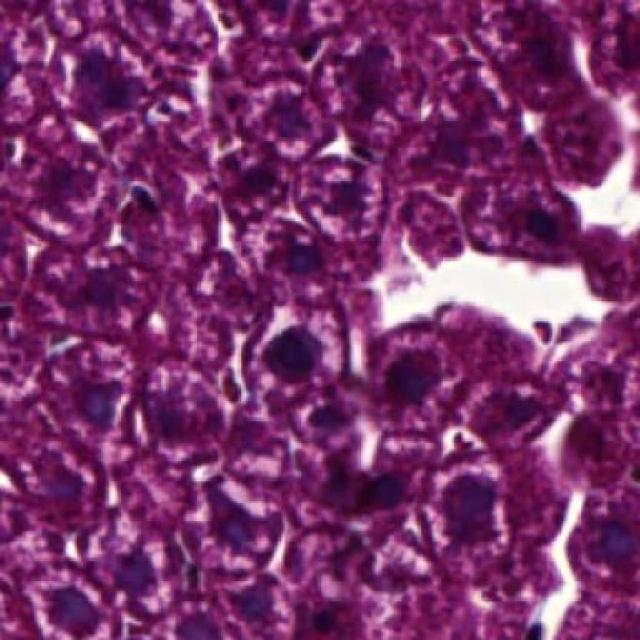inflammation: (230, 298, 362, 410), (186, 469, 283, 588), (423, 452, 512, 564), (17, 557, 120, 640)
